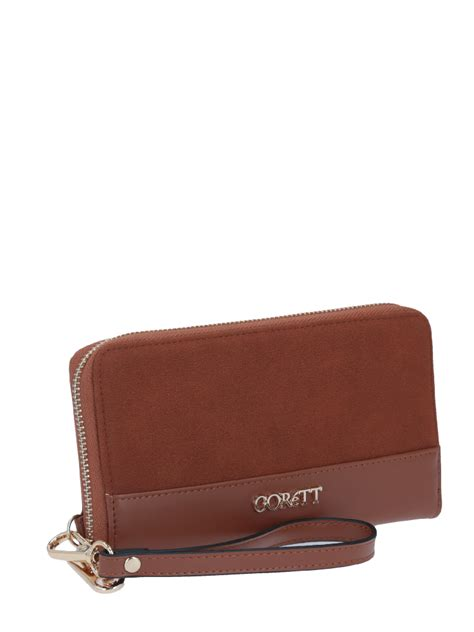gamuza: (66, 303, 459, 496)
